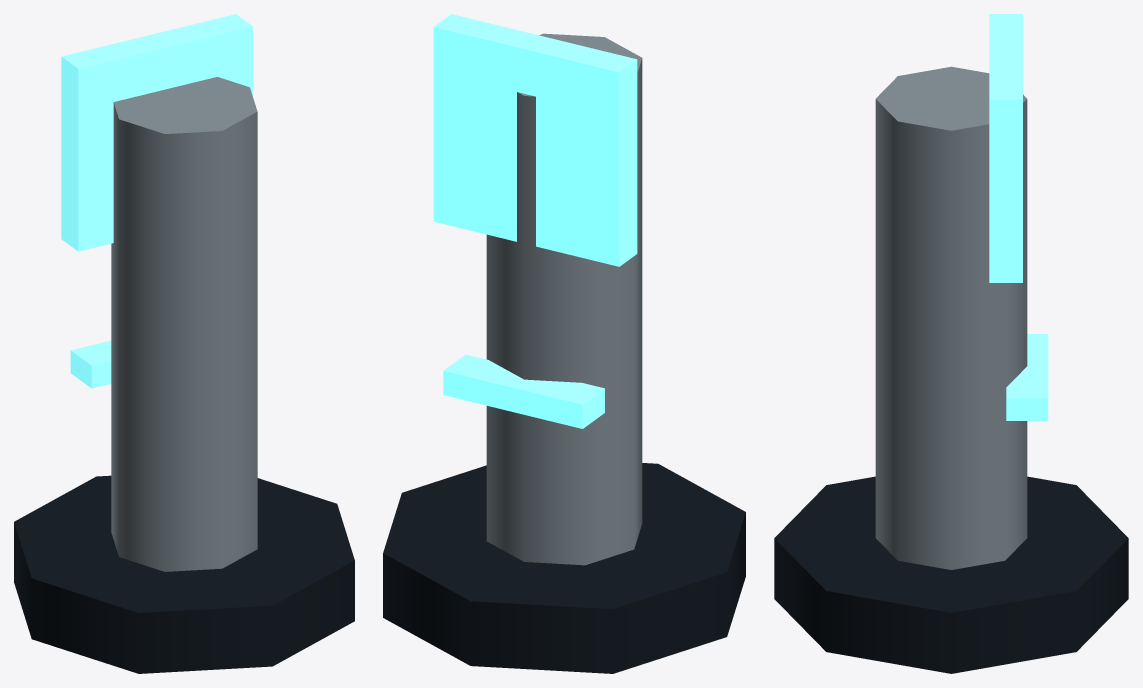
File: np_z06_avantage_reflexes.glb
3 views of the same model, side by side, from view 1: azimuth 30°, elevation 25°; view 2: azimuth 150°, elevation 25°; view 3: azimuth 270°, elevation 25° (orthographic). The views are drawn at different scales.
Visible parts, largest first — view 1: Chassis, Socle, Pictogramme, BandeEtat; view 2: Socle, Chassis, Pictogramme, BandeEtat; view 3: Chassis, Socle, Pictogramme, BandeEtat.
Part boxes in pixels (bbox=[...]): Chassis: bbox=[111, 77, 257, 571]; Socle: bbox=[14, 475, 354, 673]; Pictogramme: bbox=[61, 14, 252, 251]; BandeEtat: bbox=[70, 340, 111, 388]; Socle: bbox=[383, 463, 745, 673]; Chassis: bbox=[486, 33, 642, 565]; Pictogramme: bbox=[433, 14, 637, 266]; BandeEtat: bbox=[443, 354, 604, 428]; Chassis: bbox=[875, 66, 1027, 569]; Socle: bbox=[774, 476, 1128, 673]; Pictogramme: bbox=[989, 14, 1022, 282]; BandeEtat: bbox=[1006, 334, 1048, 420].
Size of the model in its own units: 0.84 by 1.42 by 0.84.
